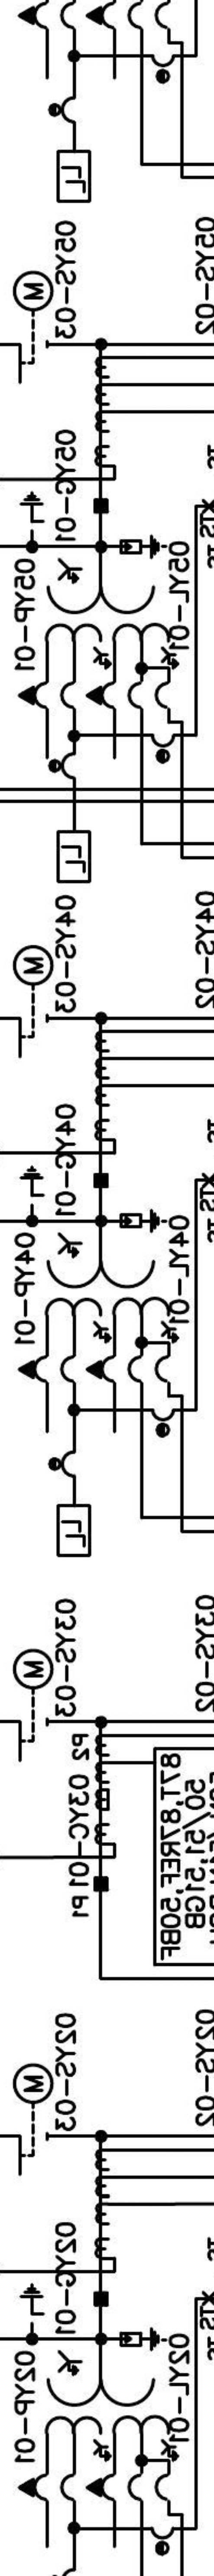115_1way_ds_w_motor: (13, 268, 56, 384), (13, 943, 56, 1060), (12, 1648, 54, 1763), (13, 2062, 54, 2177)
115_gs: (18, 490, 46, 534), (18, 1163, 46, 1207), (18, 2282, 46, 2326)
115_la: (119, 532, 168, 560), (119, 2325, 168, 2353), (119, 1207, 168, 1234)
115_vt_3p: (16, 1230, 179, 1385), (16, 557, 179, 710), (16, 2349, 179, 2502)
LL: (56, 828, 92, 884), (56, 149, 92, 204), (56, 1503, 92, 1557)
